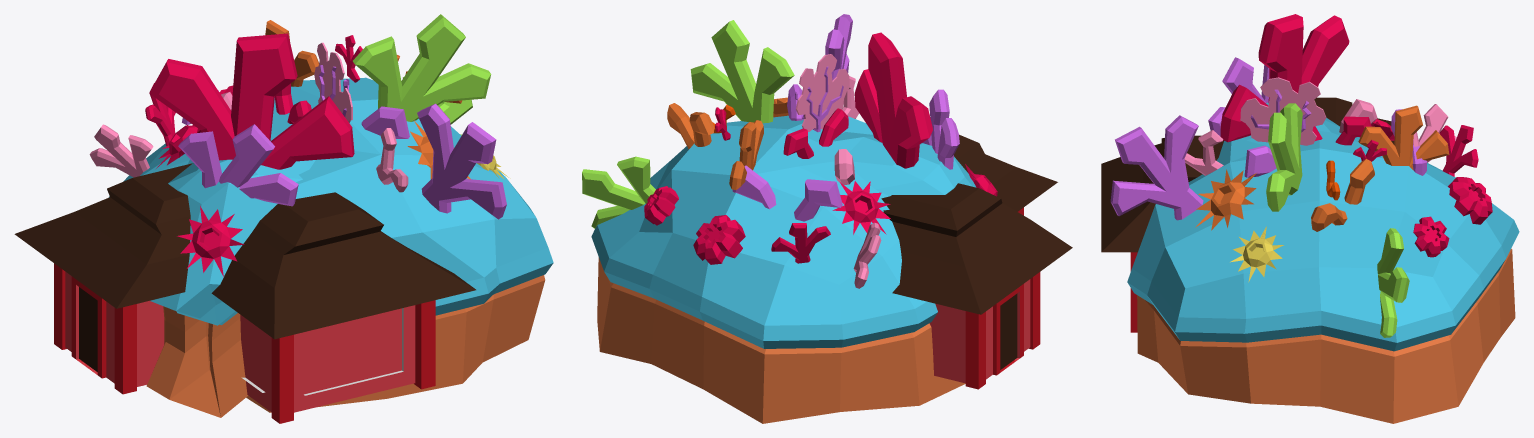
The model's file is house_coral.glb.
3 renders of one model, left to right at view 1: azimuth 30°, elevation 25°; view 2: azimuth 150°, elevation 25°; view 3: azimuth 270°, elevation 25°, orthographic. The views are drawn at different scales.
Visible parts, largest first — view 1: Cone, Cube.006, Cube, Cube.002, Plano.013, Plano.025, Plano.046, Plano.007, Cilindro.001, Cube.001, Plano.002, Cube.004 (+11 smaller); view 2: Cube.006, Cube.002, Cone, Plano.013, Cube, Plano.025, Plano.003, Plane.003, Plano.004, Circle.002, Plano.007, Cube.003 (+11 smaller); view 3: Cube.006, Cube.002, Plano.013, Plano.046, Cone, Plano.025, Plane.003, Plano.019, Plano.003, Cilindro.005, Plano.005, Circle.002 (+11 smaller).
Boxes of the visible parts, x1=… form: Cone: x1=14, y1=163, x2=475, y2=339; Cube.006: x1=109, y1=77, x2=553, y2=325; Cube: x1=65, y1=271, x2=415, y2=412; Cube.002: x1=146, y1=275, x2=545, y2=417; Plano.013: x1=149, y1=33, x2=354, y2=169; Plano.025: x1=353, y1=14, x2=491, y2=121; Plano.046: x1=417, y1=103, x2=506, y2=219; Plano.007: x1=178, y1=124, x2=298, y2=206; Cilindro.001: x1=177, y1=206, x2=244, y2=277; Cube.001: x1=114, y1=304, x2=136, y2=394; Plano.002: x1=89, y1=124, x2=153, y2=177; Cube.004: x1=271, y1=334, x2=293, y2=423; Cube.006: x1=591, y1=115, x2=976, y2=348; Cube.002: x1=597, y1=257, x2=965, y2=423; Cone: x1=881, y1=134, x2=1072, y2=314; Plano.013: x1=854, y1=32, x2=932, y2=168; Cube: x1=929, y1=279, x2=1030, y2=383; Plano.025: x1=690, y1=20, x2=794, y2=123; Plano.003: x1=582, y1=156, x2=655, y2=228; Plane.003: x1=796, y1=54, x2=849, y2=131; Plano.004: x1=732, y1=165, x2=842, y2=221; Circle.002: x1=693, y1=215, x2=745, y2=264; Plano.007: x1=922, y1=89, x2=959, y2=169; Cube.003: x1=965, y1=311, x2=985, y2=389; Cube.006: x1=1127, y1=102, x2=1519, y2=351; Cube.002: x1=1137, y1=248, x2=1515, y2=423; Plano.013: x1=1220, y1=14, x2=1349, y2=142; Plano.046: x1=1110, y1=115, x2=1203, y2=220; Cone: x1=1101, y1=97, x2=1394, y2=252; Plano.025: x1=1266, y1=103, x2=1302, y2=211; Plane.003: x1=1240, y1=77, x2=1326, y2=145; Plano.019: x1=1358, y1=105, x2=1449, y2=170; Plano.003: x1=1377, y1=228, x2=1409, y2=337; Cilindro.005: x1=1195, y1=169, x2=1256, y2=230; Plano.005: x1=1311, y1=159, x2=1374, y2=231; Circle.002: x1=1448, y1=177, x2=1492, y2=224.
Size of the model in its own units: 8.8 by 6.24 by 7.9.
